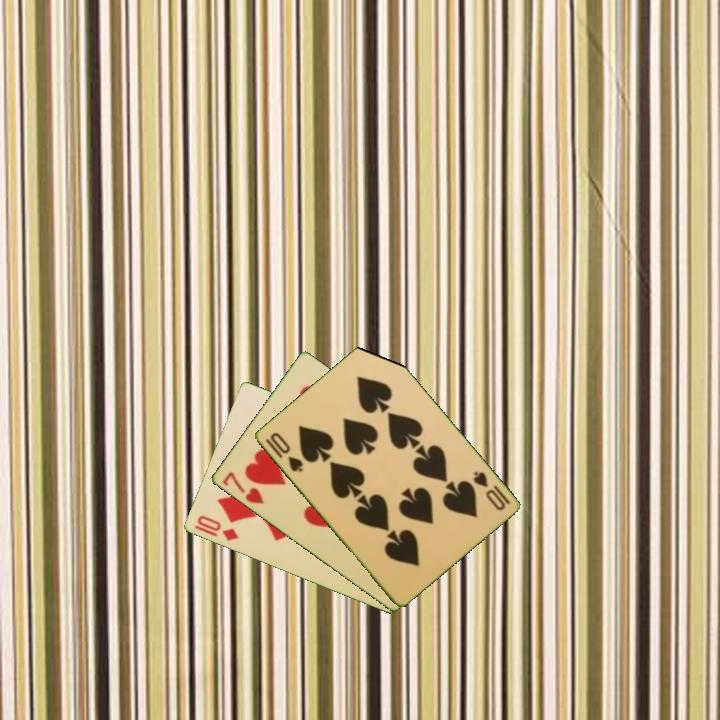10d: (191, 512, 241, 544)
10s: (469, 467, 513, 514), (266, 429, 306, 475)
7h: (218, 468, 267, 507)
